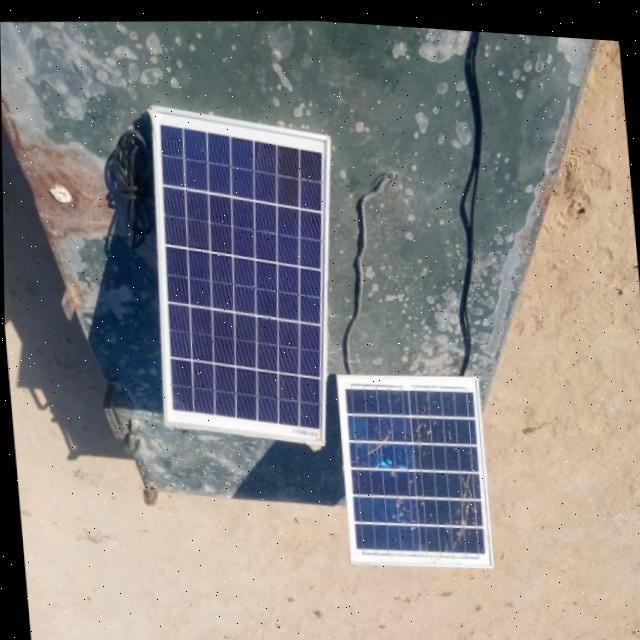Anomaly Solar Panel: (344, 376, 486, 552)
Normal Solar Panel: (138, 91, 354, 452)
Surface Contaminant: (347, 382, 483, 548)
